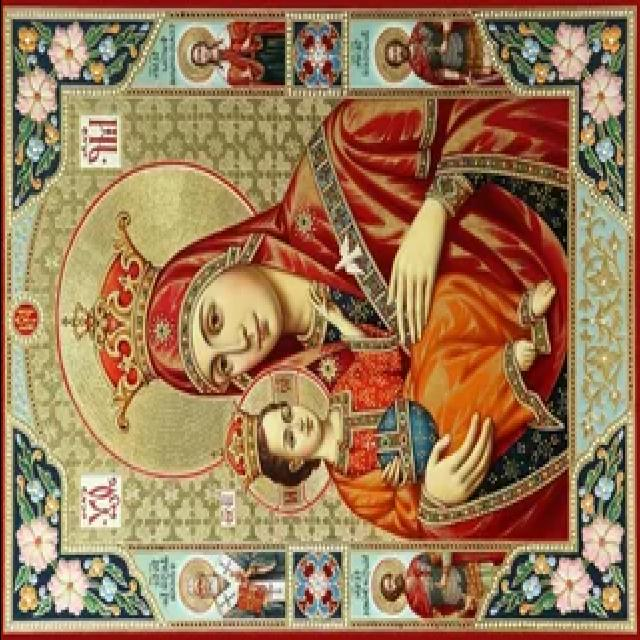mother of god: (124, 100, 568, 538)
